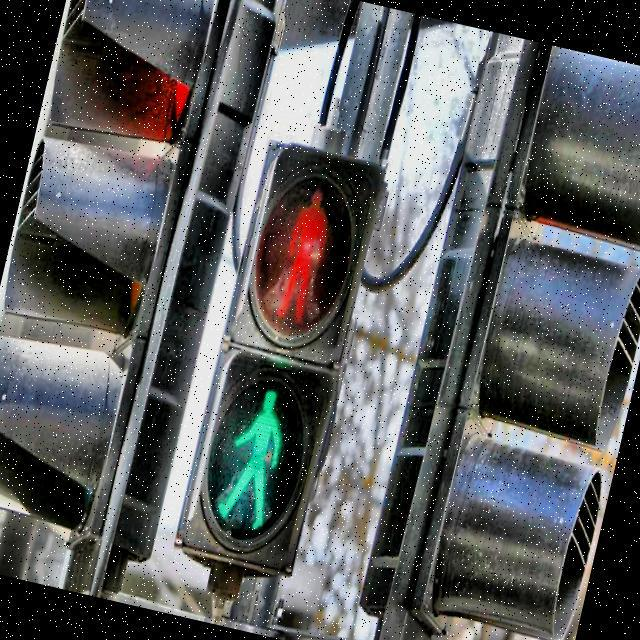green_light: (210, 378, 296, 534)
